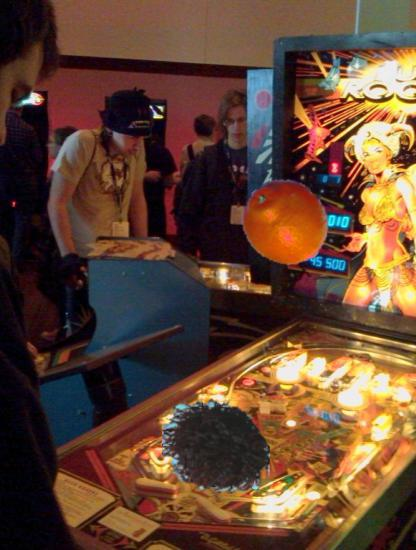Rambutan: (162, 392, 271, 501)
Tangelo: (242, 176, 333, 267)
